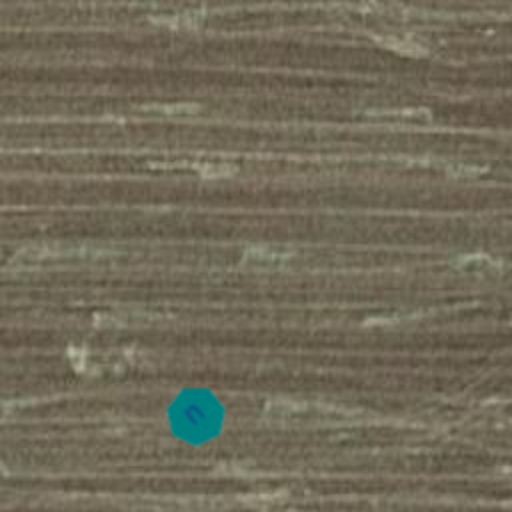heptagon: (152, 372, 240, 460)
